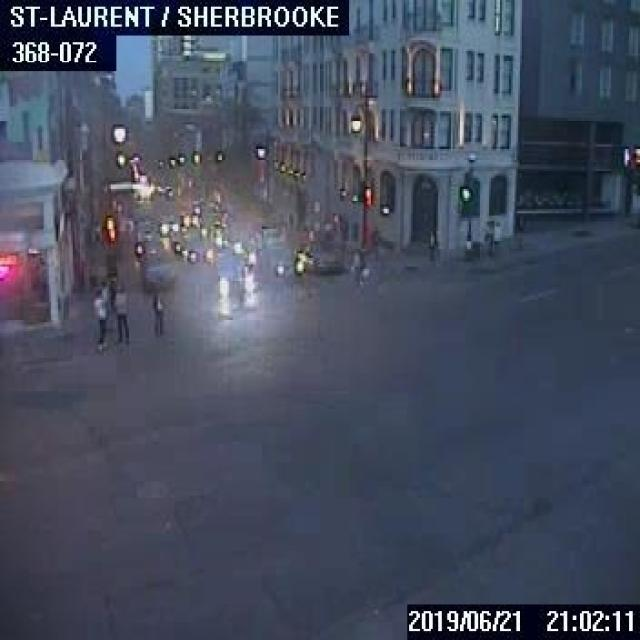pedestrian: (89, 285, 106, 349), (112, 281, 129, 341), (152, 290, 162, 334), (426, 222, 436, 256), (486, 218, 494, 244)
vehicle: (214, 250, 256, 294), (295, 240, 340, 273), (142, 258, 172, 290)
